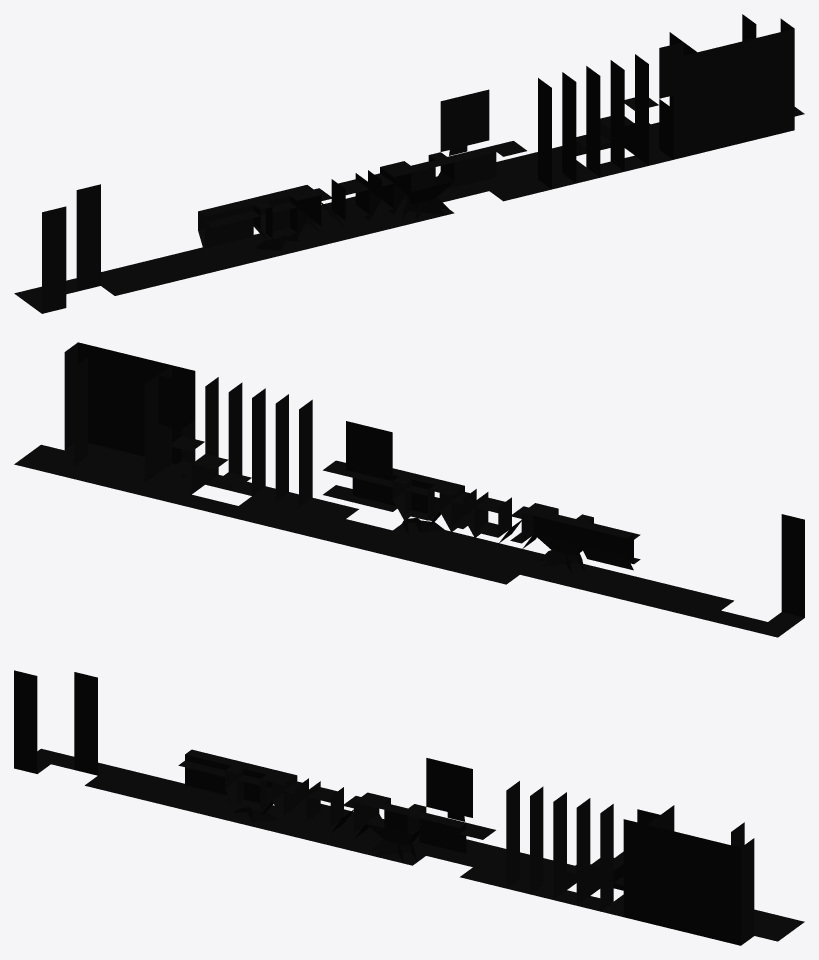
The model's file is catalog.obj.
3 views of the same model, one above another, from view 1: azimuth 30°, elevation 25°; view 2: azimuth 150°, elevation 25°; view 3: azimuth 330°, elevation 25° (orthographic). The views are drawn at different scales.
Visible parts, largest first — view 1: cell_14_0, cell_5_1, cell_4_0, cell_1_0, cell_31_0, cell_29_0, cell_3_0, cell_2_0, cell_5_0, cell_7_0, cell_11_0, cell_10_0 (+16 smaller); view 2: cell_14_0, cell_1_0, cell_2_0, cell_31_0, cell_5_1, cell_3_0, cell_2_1, cell_11_0, cell_4_1, cell_10_0, cell_15_0, cell_7_0 (+18 smaller); view 3: cell_1_0, cell_14_0, cell_4_0, cell_31_0, cell_29_0, cell_2_0, cell_5_0, cell_3_0, cell_7_0, cell_10_0, cell_11_0, cell_6_0 (+16 smaller).
Boxes of the visible parts, x1,y1,x2,y2 form: cell_14_0: (440, 89, 489, 188); cell_5_1: (649, 42, 697, 159); cell_4_0: (683, 42, 721, 153); cell_1_0: (770, 18, 794, 135); cell_31_0: (28, 206, 66, 313); cell_29_0: (76, 184, 100, 291); cell_3_0: (722, 40, 746, 147); cell_2_0: (746, 34, 770, 141); cell_5_0: (673, 52, 697, 159); cell_7_0: (610, 60, 648, 171); cell_11_0: (514, 78, 551, 195); cell_10_0: (552, 72, 576, 189); cell_14_0: (346, 421, 405, 511); cell_1_0: (64, 342, 101, 455); cell_2_0: (88, 348, 124, 461); cell_31_0: (768, 514, 804, 627); cell_5_1: (145, 375, 195, 488); cell_3_0: (111, 354, 148, 467); cell_2_1: (74, 358, 110, 471); cell_11_0: (299, 399, 335, 513); cell_4_1: (121, 375, 158, 482); cell_10_0: (275, 394, 298, 507); cell_15_0: (392, 471, 429, 535); cell_7_0: (205, 382, 242, 490); cell_1_0: (717, 838, 754, 945); cell_14_0: (413, 758, 472, 847); cell_4_0: (647, 815, 670, 928); cell_31_0: (14, 670, 50, 773); cell_29_0: (74, 672, 97, 775); cell_2_0: (694, 836, 717, 939); cell_5_0: (623, 819, 646, 922); cell_3_0: (670, 830, 693, 934); cell_7_0: (576, 798, 600, 911); cell_10_0: (507, 786, 543, 894); cell_11_0: (483, 781, 519, 888); cell_6_0: (600, 804, 623, 916).
Bounding box in the file's own units: 0.5 × 0.0625 × 0.0469.
Materials: 18 (18 with a texture image).
